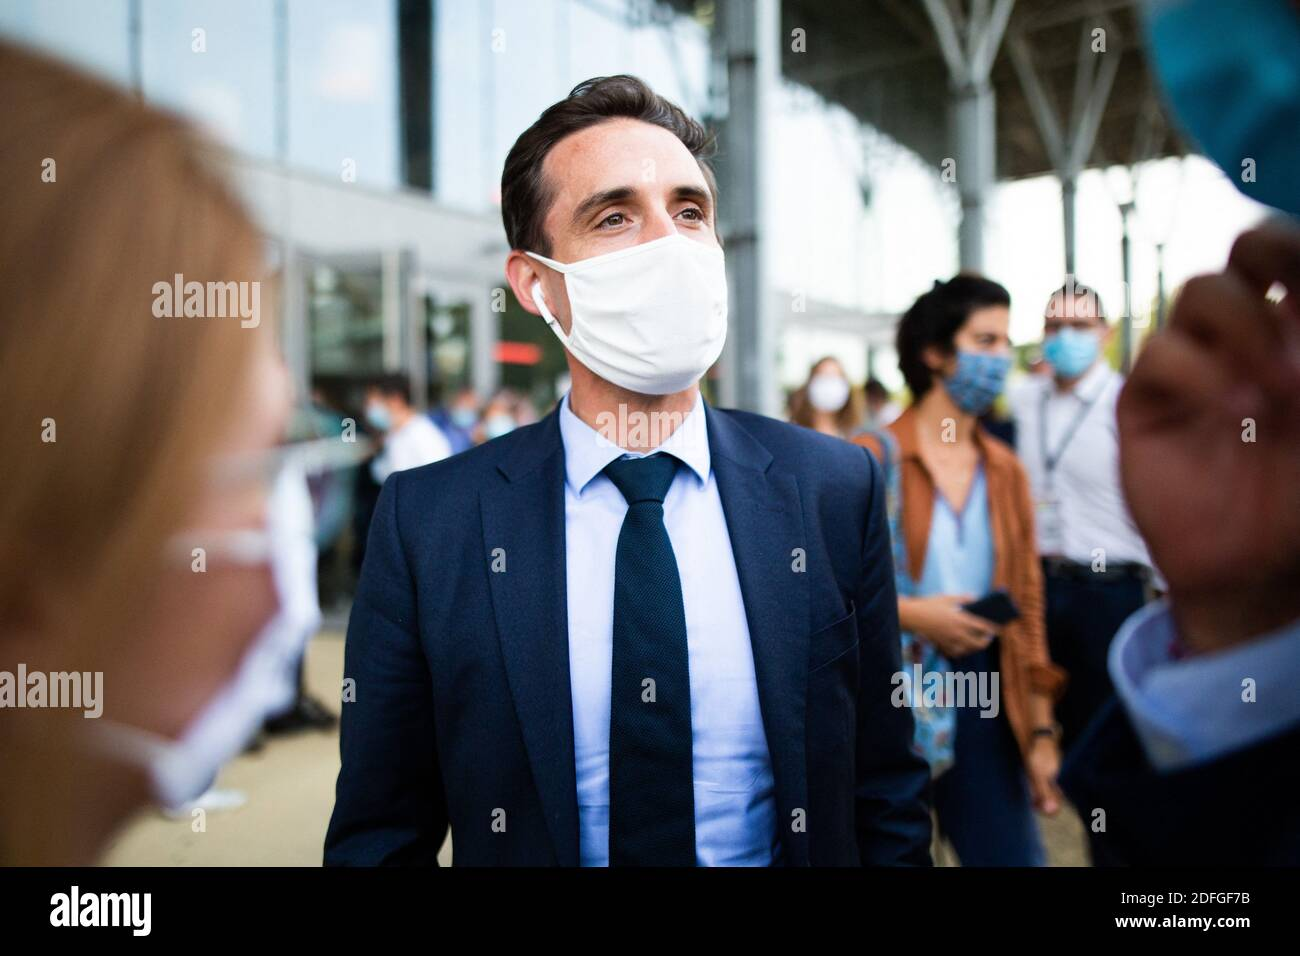earphone: (505, 249, 554, 324)
